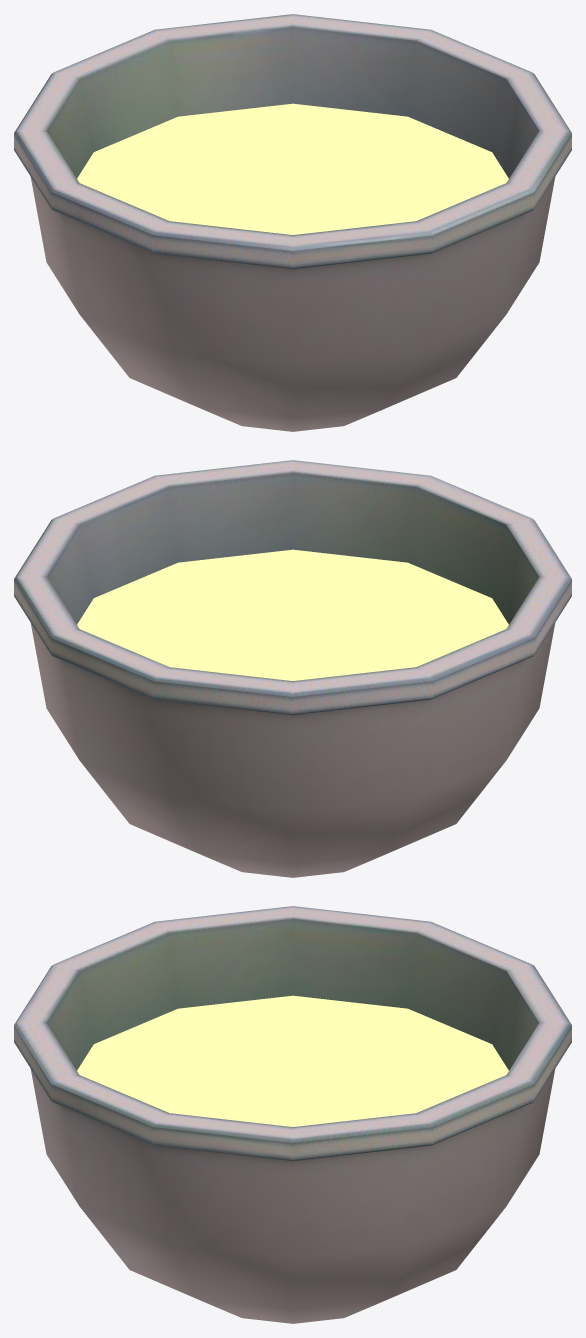
File: mixingBowlWhisked.glb
The picture shows the model from 3 angles, top to bottom: view 1: azimuth 30°, elevation 25°; view 2: azimuth 150°, elevation 25°; view 3: azimuth 270°, elevation 25°; orthographic projection.
Parts seen in each view (by area): view 1: MixingBowl, Cylinder; view 2: MixingBowl, Cylinder; view 3: MixingBowl, Cylinder.
Part boxes in pixels (x1=…): MixingBowl: x1=14, y1=14, x2=571, y2=431; Cylinder: x1=77, y1=103, x2=508, y2=234; MixingBowl: x1=14, y1=460, x2=571, y2=877; Cylinder: x1=77, y1=549, x2=508, y2=680; MixingBowl: x1=14, y1=906, x2=571, y2=1323; Cylinder: x1=77, y1=995, x2=508, y2=1126.
Size of the model in its own units: 0.3931 by 0.2142 by 0.3931.
Materials: 2 (2 with a texture image).
